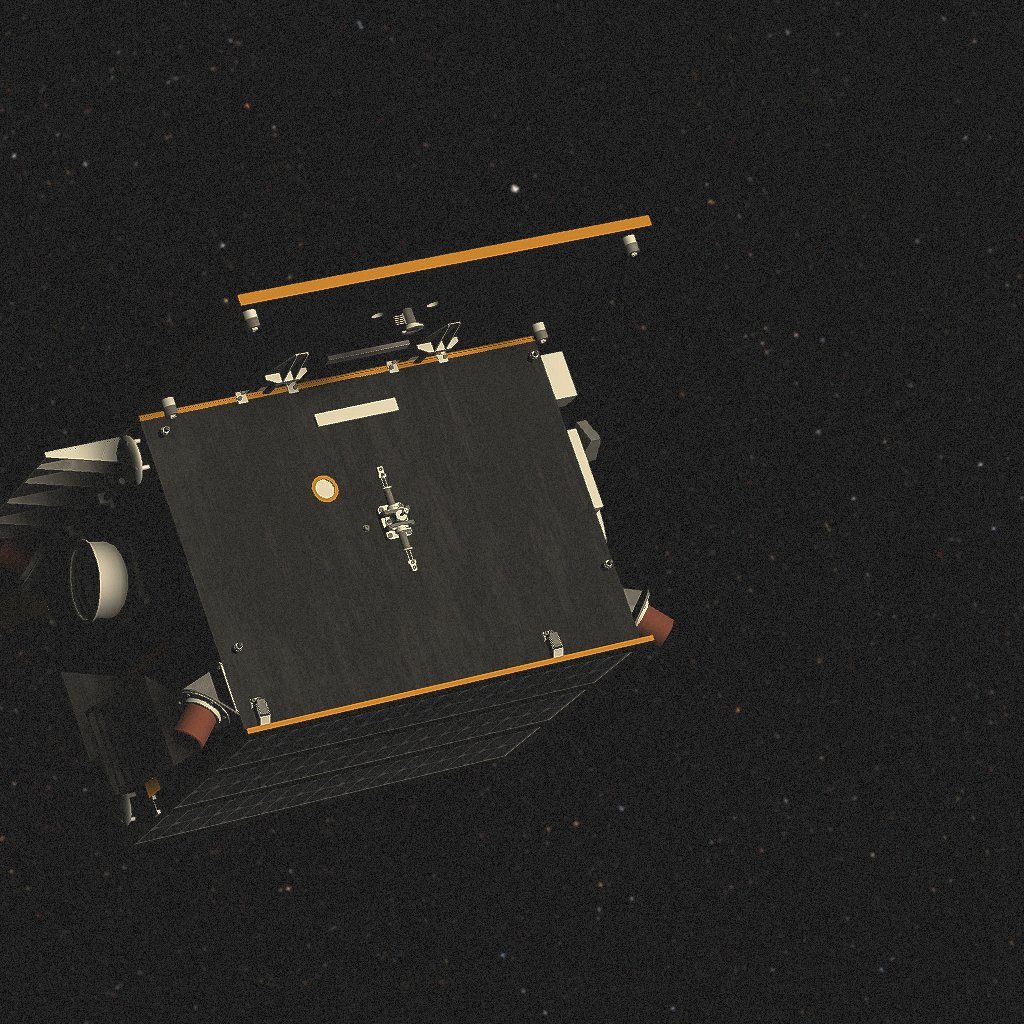proba_2: (0, 215, 674, 853)
